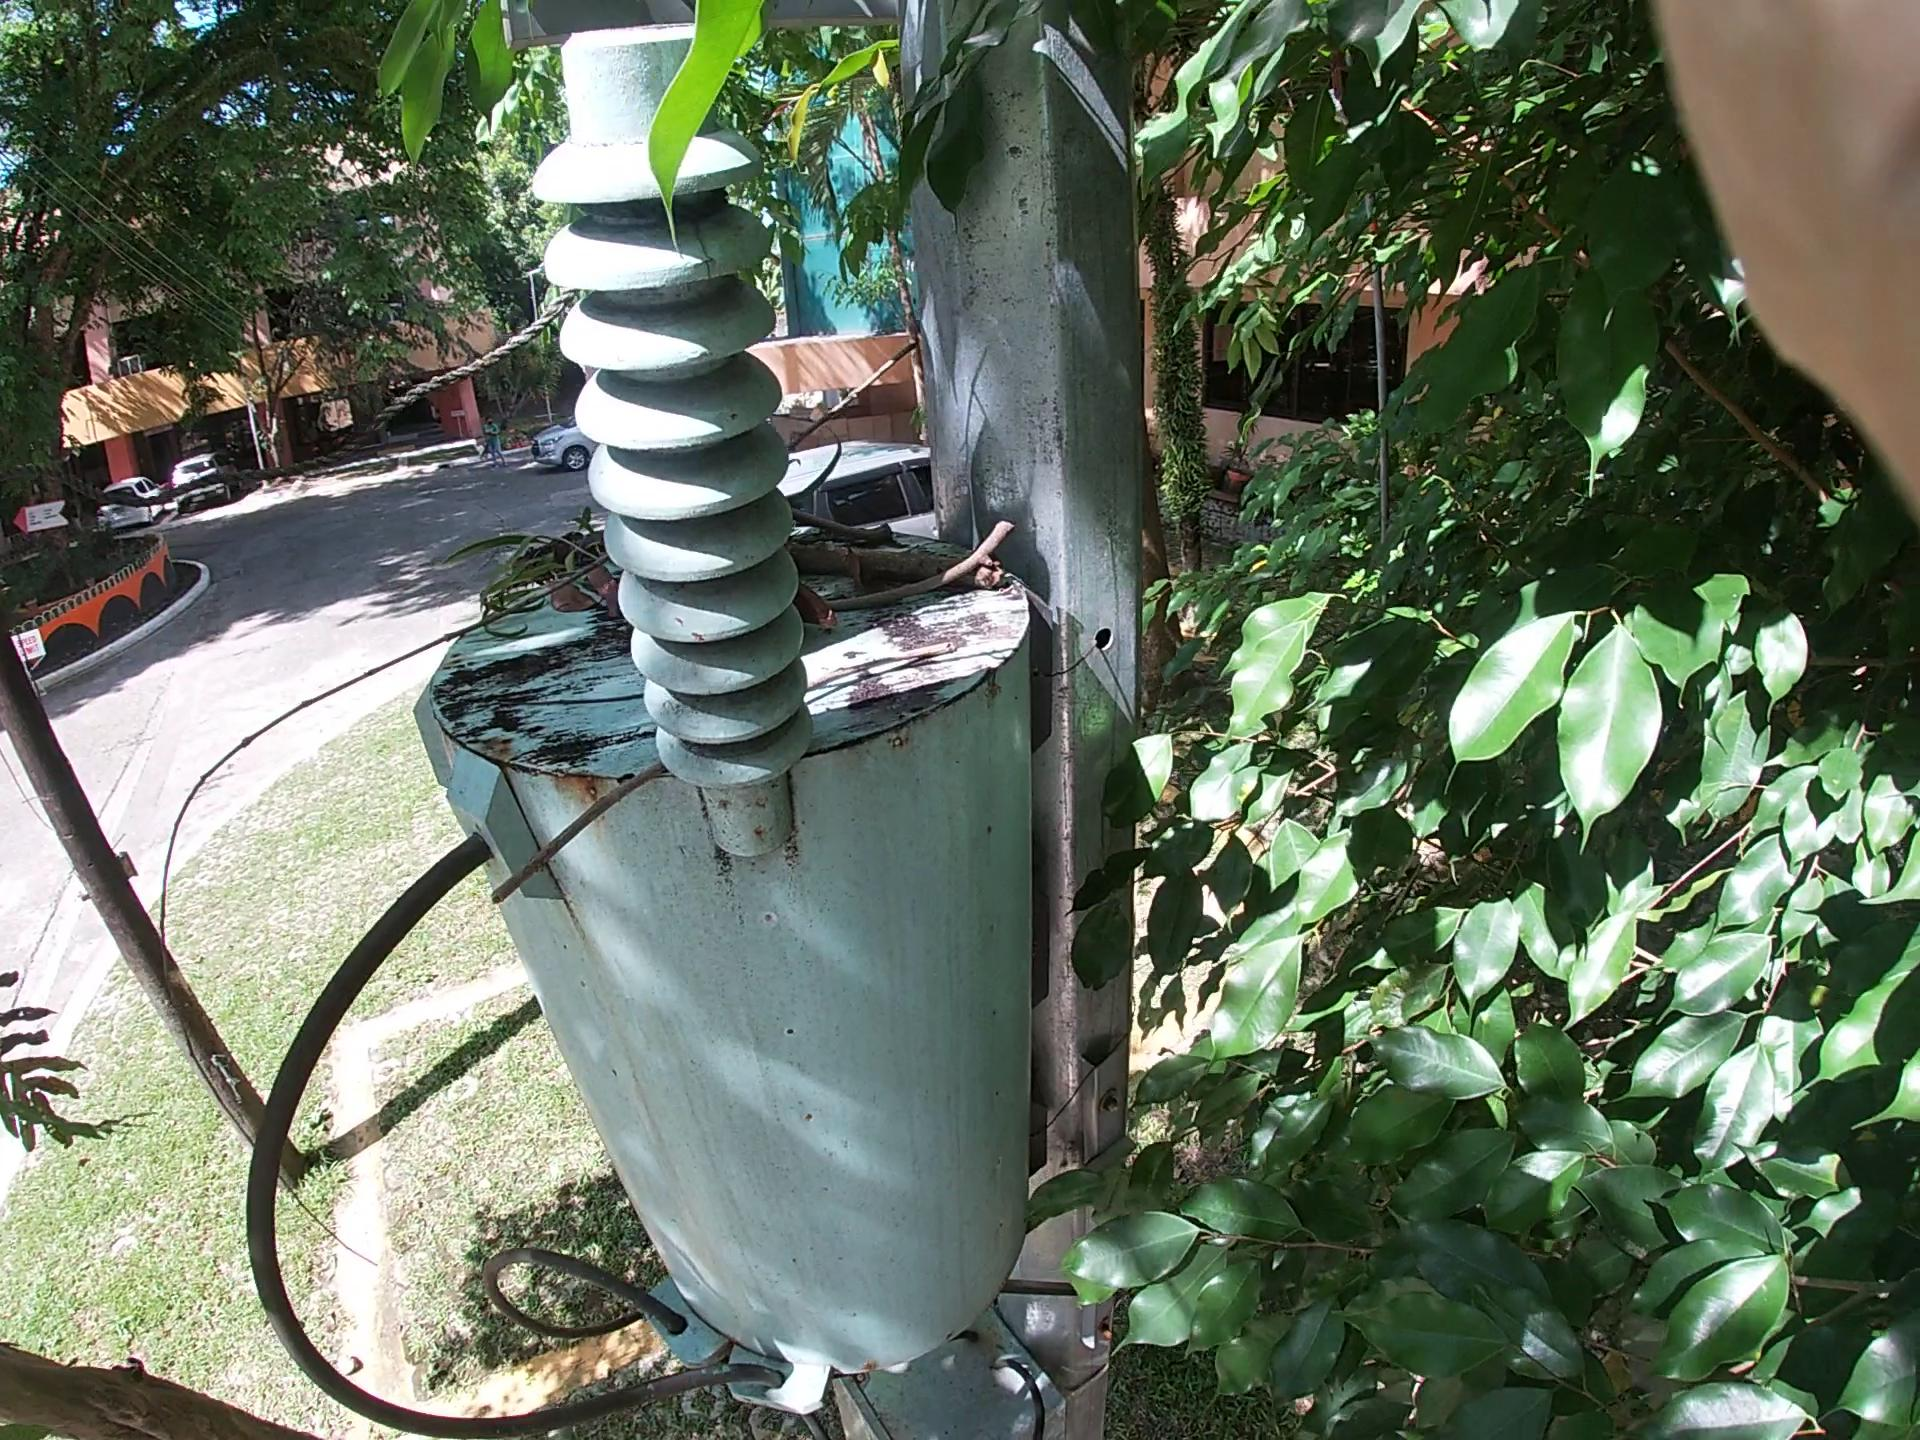branch with leaves: (434, 473, 945, 629)
tree branch: (475, 629, 868, 897), (730, 315, 921, 517), (777, 510, 1033, 629)
